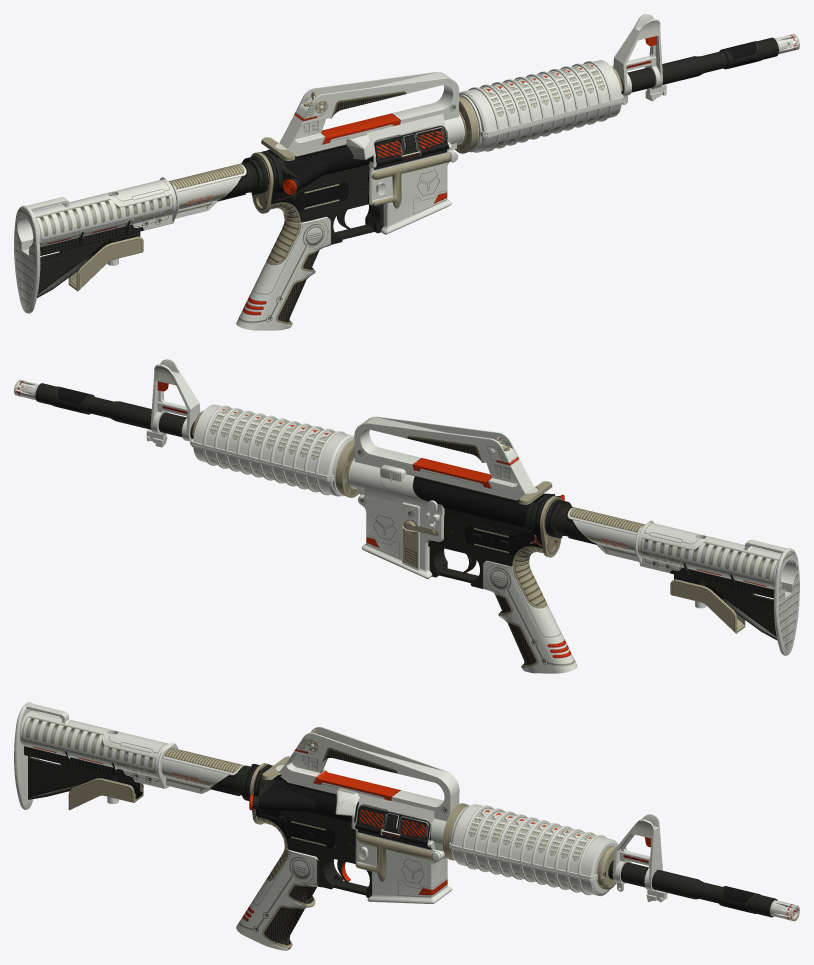
Rendered from w_carbinerifle_mecha_industries.glb.
3 renders of one model, top to bottom at view 1: azimuth 30°, elevation 25°; view 2: azimuth 150°, elevation 25°; view 3: azimuth 330°, elevation 25°, orthographic.
Parts seen in each view (by area): view 1: Gun_Root; view 2: Gun_Root; view 3: Gun_Root.
Part boxes in pixels (x1,y1,x2,y2): Gun_Root: (14,14,799,330); Gun_Root: (14,359,799,673); Gun_Root: (14,702,799,950).
Bounding box in the file's own units: 0.7831 × 0.2196 × 0.0717.
Materials: 1 (1 with a texture image).
